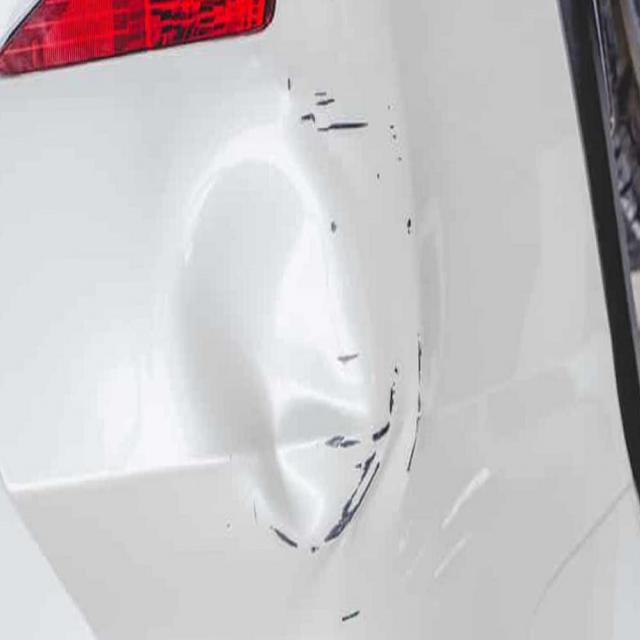dent: (154, 92, 436, 640)
